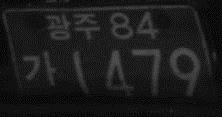1: (69, 49, 91, 95)
4: (103, 48, 135, 100), (134, 10, 159, 39)
7: (132, 47, 163, 99)
8: (109, 10, 134, 40)
9: (169, 46, 201, 98)
가: (20, 50, 58, 91)
광주_O: (45, 12, 100, 42)
